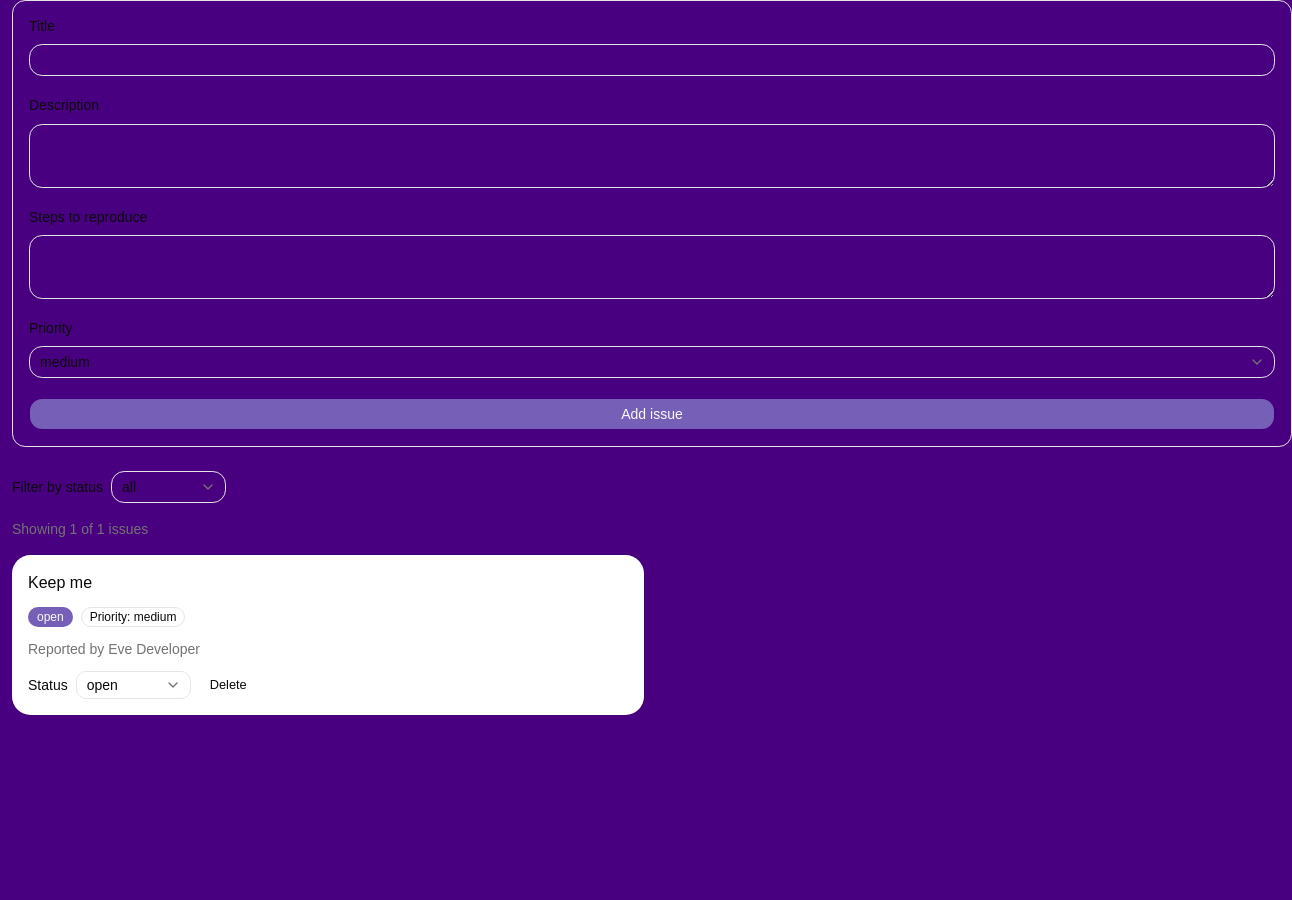
IssueListPage (changing data) › keeps the issue and shows an alert when the API refuses a delete
Check: the text "Showing 1 of 1 issues" is shown, box [12, 521, 148, 537]
Click the button "Delete": [228, 685] box [199, 671, 258, 699]
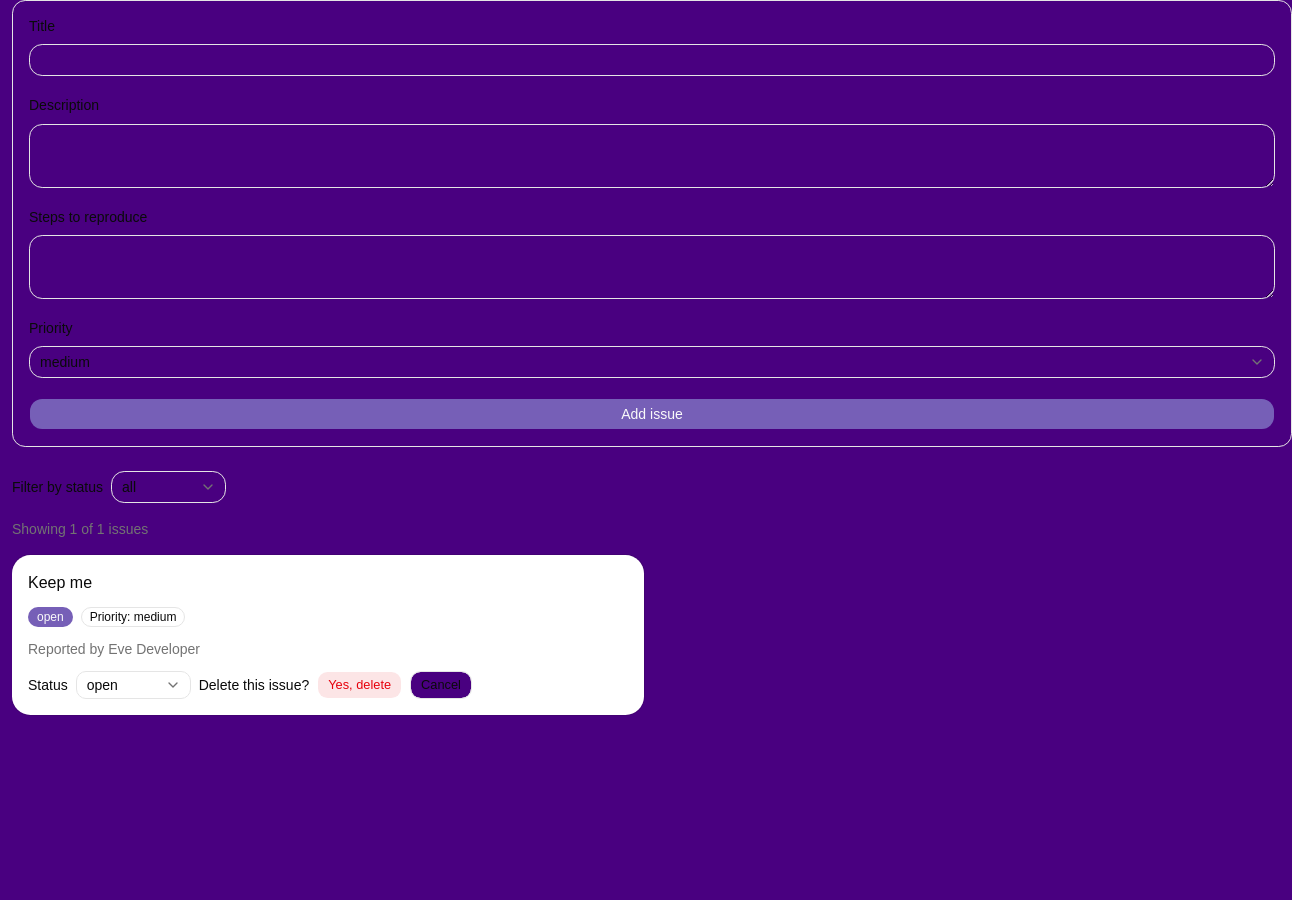
Click the button "Yes, delete": [360, 685] box [317, 671, 402, 699]
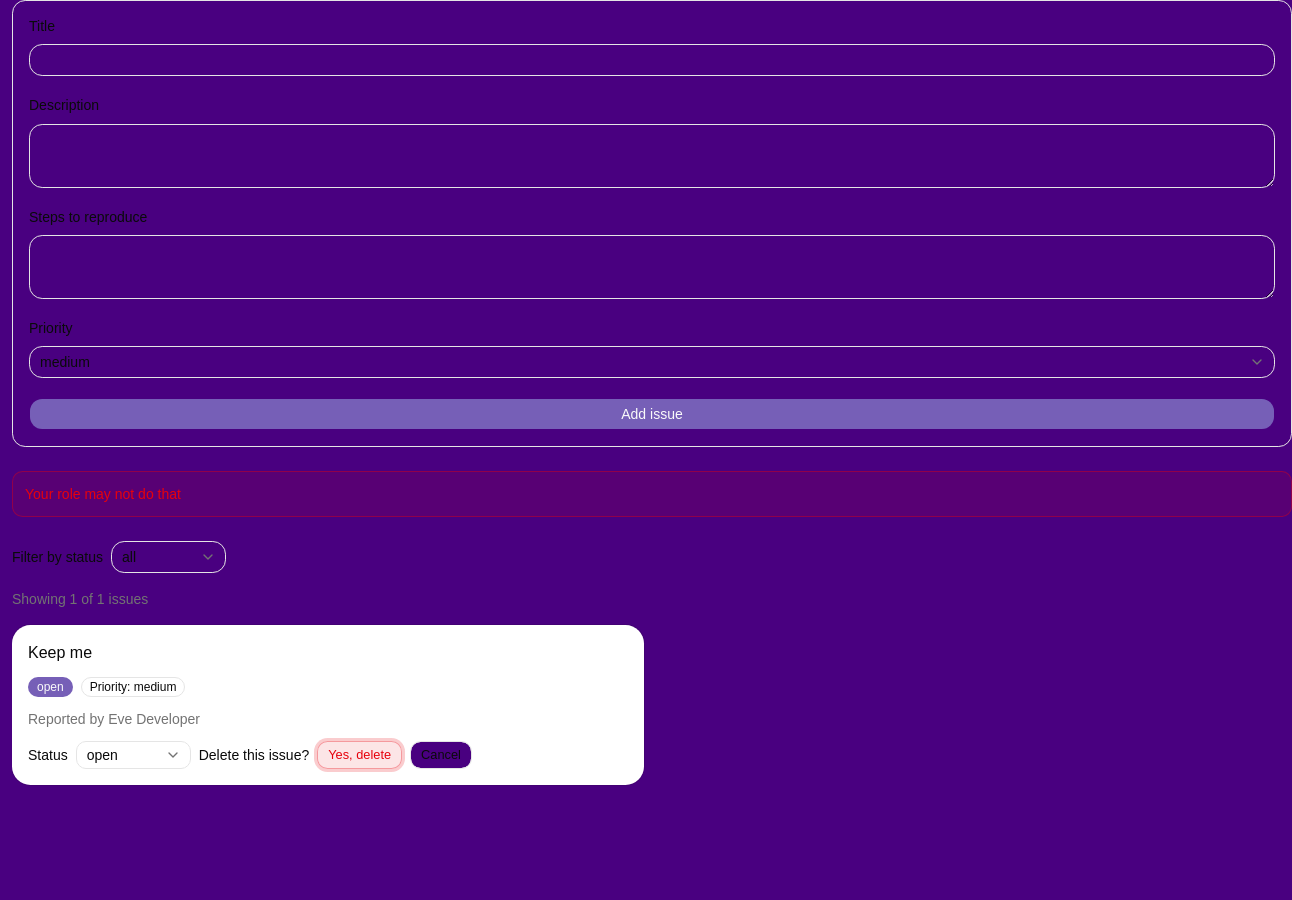
Check: the heading "Keep me" is shown, box [28, 644, 92, 661]
Check: the message reads "Your role may not do that", box [25, 486, 181, 502]
